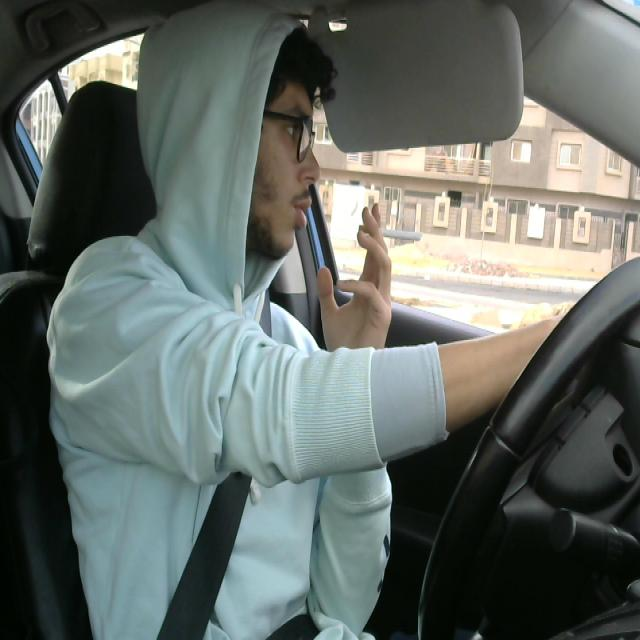smoking: (352, 226, 423, 248)
